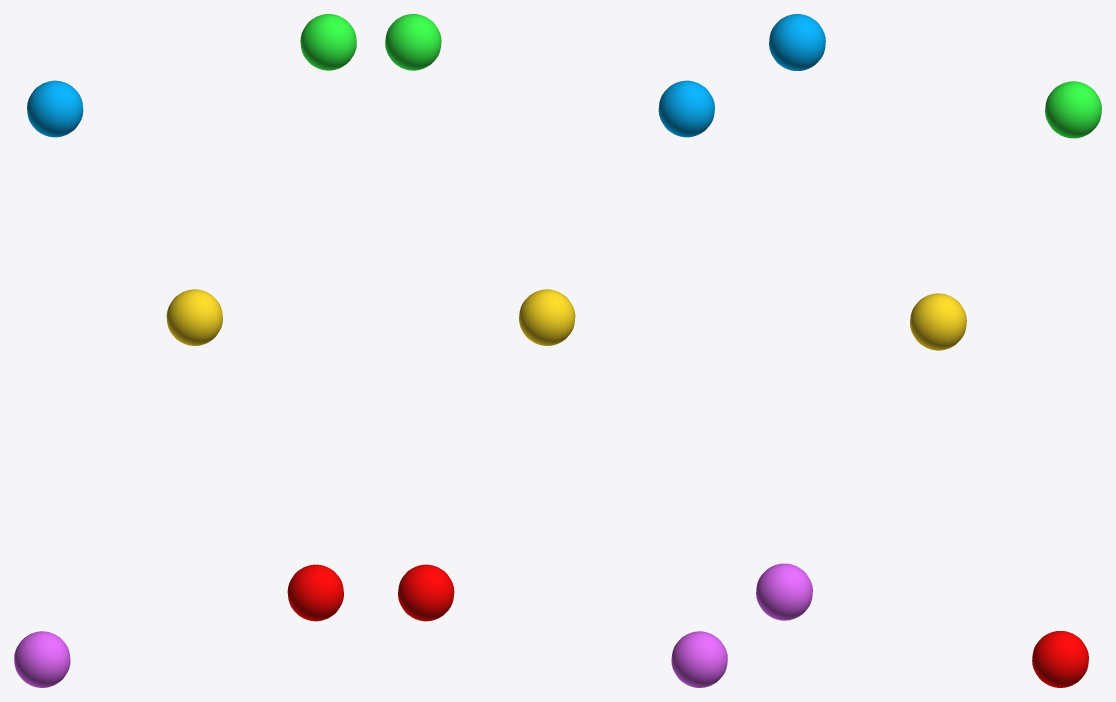
Rendered from DoorBalls.fbx.
The picture shows the model from 3 angles, left to right: view 1: azimuth 30°, elevation 25°; view 2: azimuth 150°, elevation 25°; view 3: azimuth 330°, elevation 25°; orthographic projection.
Parts seen in each view (by area): view 1: pSphere3, pSphere5, pSphere4, pSphere6, pSphere7; view 2: pSphere3, pSphere5, pSphere4, pSphere6, pSphere7; view 3: pSphere4, pSphere6, pSphere7, pSphere3, pSphere5.
Part boxes in pixels (x1=…): pSphere3: x1=27, y1=80, x2=83, y2=137; pSphere5: x1=287, y1=564, x2=343, y2=621; pSphere4: x1=300, y1=14, x2=356, y2=70; pSphere6: x1=14, y1=631, x2=70, y2=687; pSphere7: x1=166, y1=289, x2=222, y2=345; pSphere3: x1=658, y1=80, x2=714, y2=137; pSphere5: x1=398, y1=564, x2=454, y2=621; pSphere4: x1=385, y1=14, x2=441, y2=70; pSphere6: x1=671, y1=631, x2=727, y2=687; pSphere7: x1=519, y1=289, x2=575, y2=345; pSphere4: x1=1045, y1=81, x2=1101, y2=138; pSphere6: x1=756, y1=563, x2=812, y2=620; pSphere7: x1=910, y1=293, x2=966, y2=350; pSphere3: x1=769, y1=14, x2=825, y2=70; pSphere5: x1=1032, y1=631, x2=1088, y2=687.
Size of the model in its own units: 2.72 by 4.64 by 0.3985.
